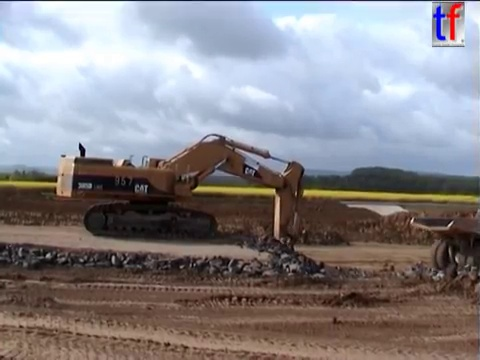excavator: (53, 131, 309, 274)
truck: (407, 213, 480, 278)
